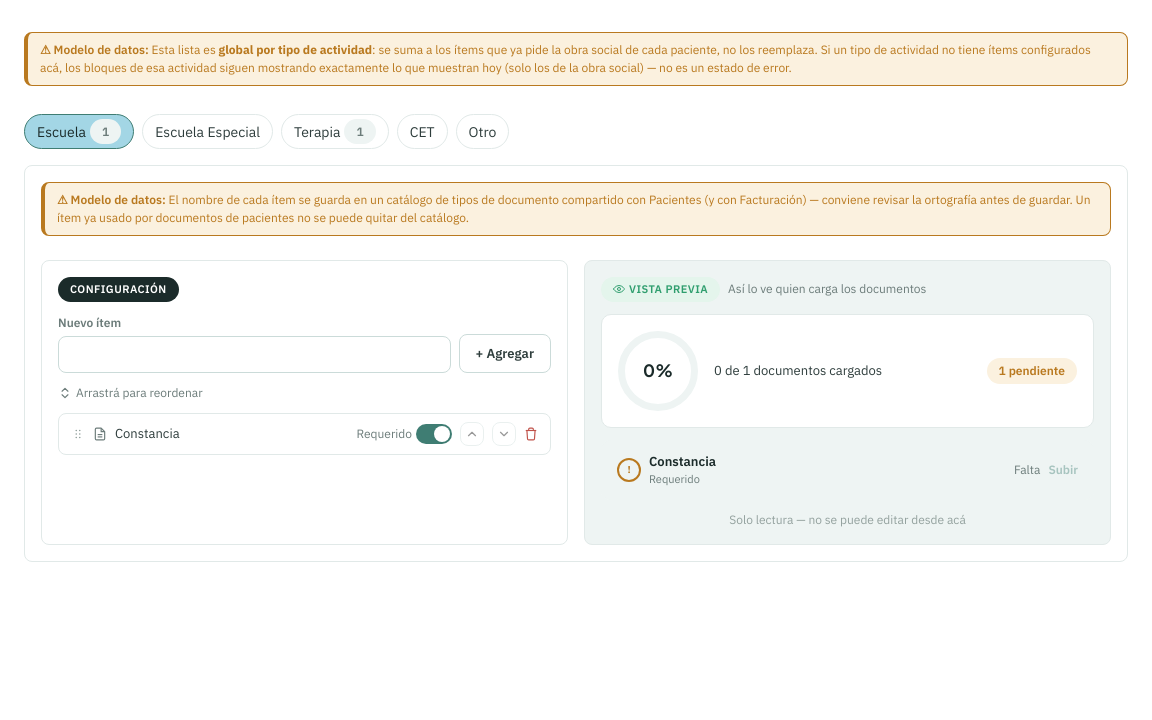
Test: RequisitosActividadPage › cambiar de tab muestra la lista del tipo seleccionado, no la del anterior
Check: the text "Constancia" below "Arrastrá para reordenar" is shown, box 115,425 -> 180,442
Check: the text "Orden médica" is not shown
Click the tab "Terapia 1".
click(335, 132)  # box 281,114 -> 389,149
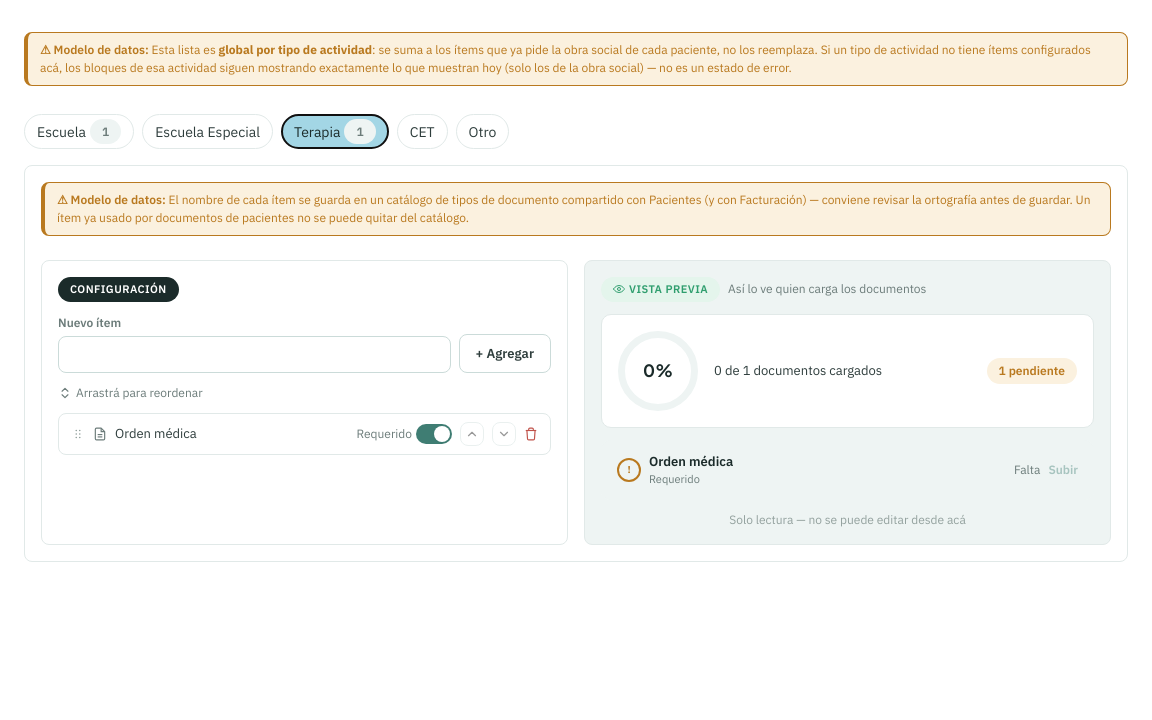
Check: the text "Orden médica" below "Arrastrá para reordenar" is shown, box 115,425 -> 197,442
Check: the text "Constancia" is gone
